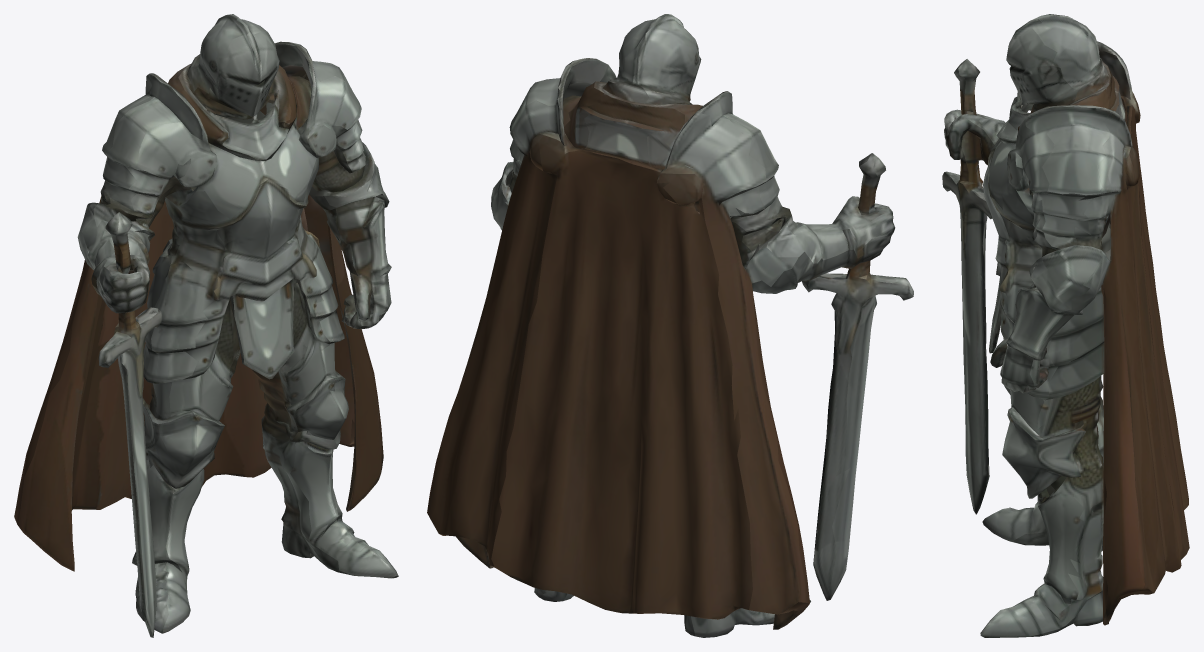
The model's file is boss_knight.glb.
The picture shows the model from 3 angles, left to right: view 1: azimuth 30°, elevation 25°; view 2: azimuth 150°, elevation 25°; view 3: azimuth 270°, elevation 25°; orthographic projection. The views are drawn at different scales.
Visible parts, largest first — view 1: geometry_0; view 2: geometry_0; view 3: geometry_0.
Part boxes in pixels (bbox=[...]): geometry_0: bbox=[14, 14, 398, 637]; geometry_0: bbox=[427, 14, 913, 637]; geometry_0: bbox=[942, 14, 1189, 637].
Size of the model in its own units: 1.38 by 2 by 0.7969.
1 material, 1 textured.
